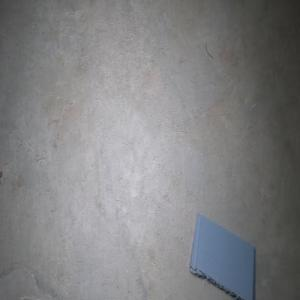PlasticPart: (187, 212, 255, 300)
